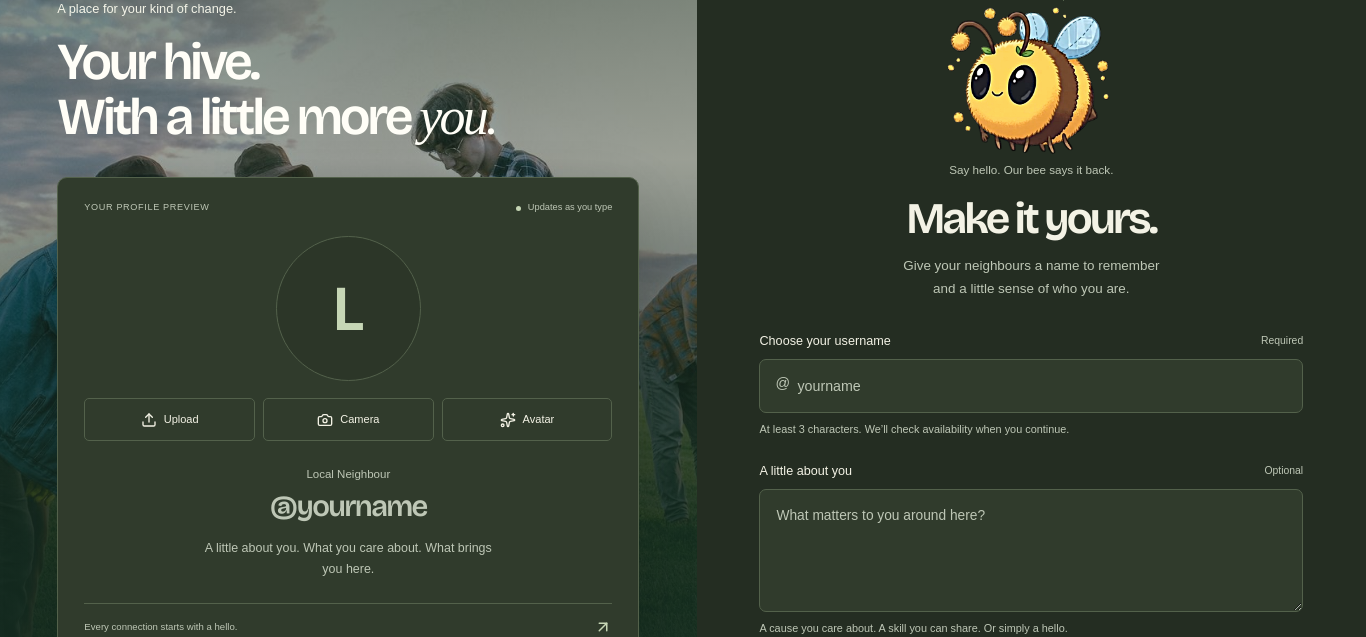
it: Connected profile completion and shared theme preference › recovers from lookup errors without dropping entered details or refreshing the gate
Later steps or results of the test are not shown.
Type "Neighbour" into the field labelled "Choose your username Required" at (1031,386), box x1=760 y1=359 x2=1303 y2=413
(page scrolled)
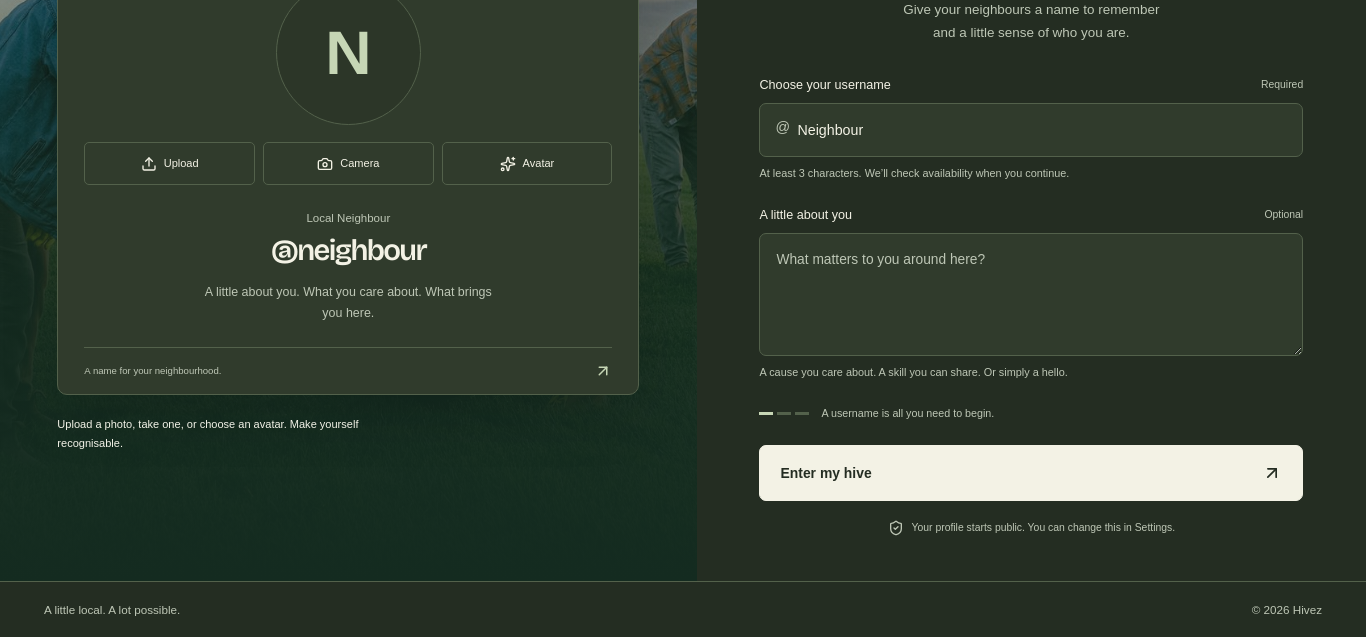
Submit the form with id "cp-form", box x1=760 y1=76 x2=1303 y2=537
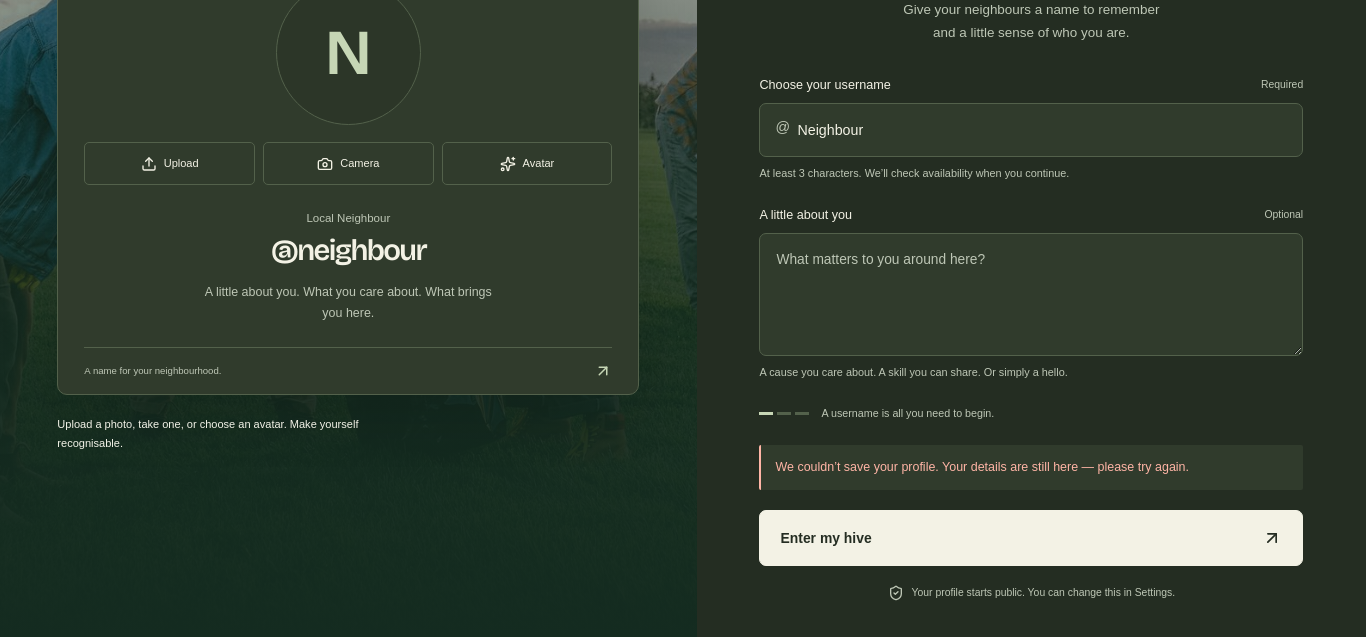
Expected: the button "Enter my hive" is enabled, x1=760 y1=510 x2=1303 y2=566
Now the message "We couldn’t save your profile. Your details are still here — please try again." is shown, box x1=760 y1=445 x2=1303 y2=490
